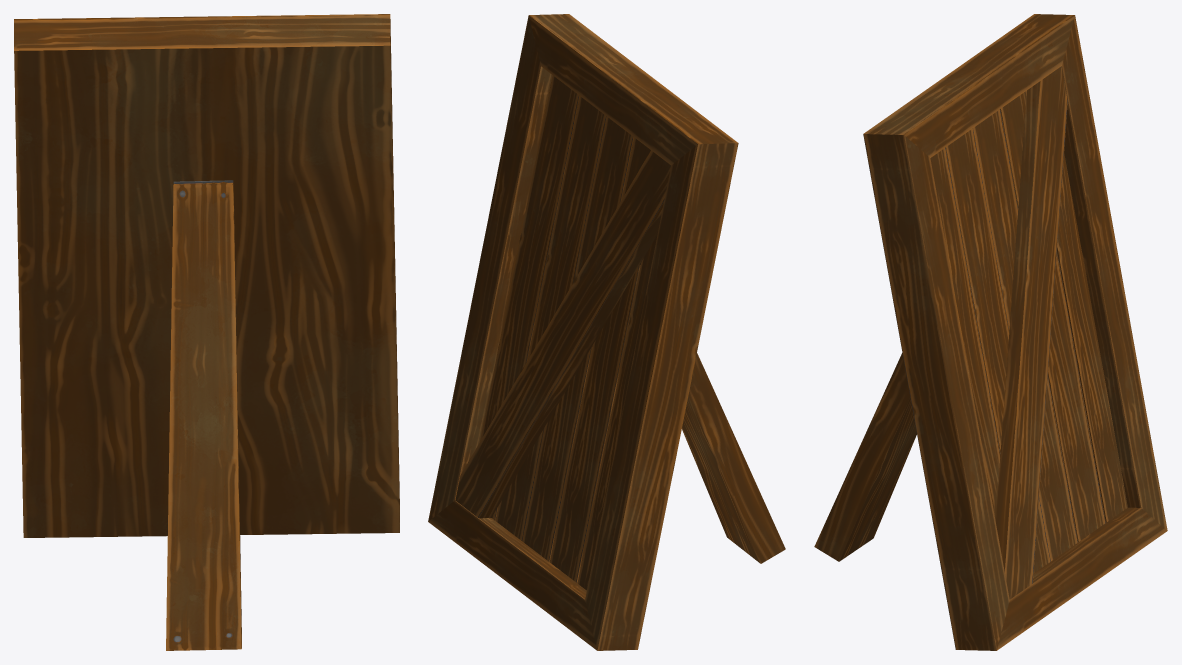
3 renders of one model, left to right at view 1: azimuth 30°, elevation 25°; view 2: azimuth 150°, elevation 25°; view 3: azimuth 270°, elevation 25°, orthographic. The views are drawn at different scales.
Parts seen in each view (by area): view 1: Cube.1876; view 2: Cube.1876; view 3: Cube.1876.
Part boxes in pixels (x1,y1,x2,y2): Cube.1876: (14,14,399,650); Cube.1876: (428,14,785,650); Cube.1876: (814,14,1167,650).
Size of the model in its own units: 226 by 332 by 209.
Materials: 1 (1 with a texture image).
